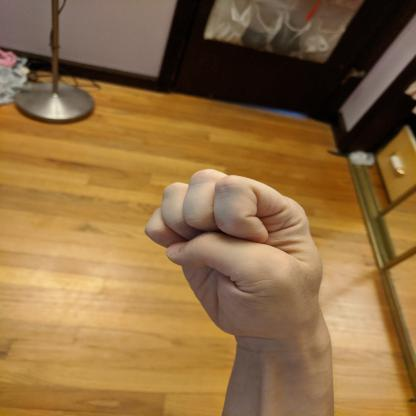E: (138, 166, 330, 343)
